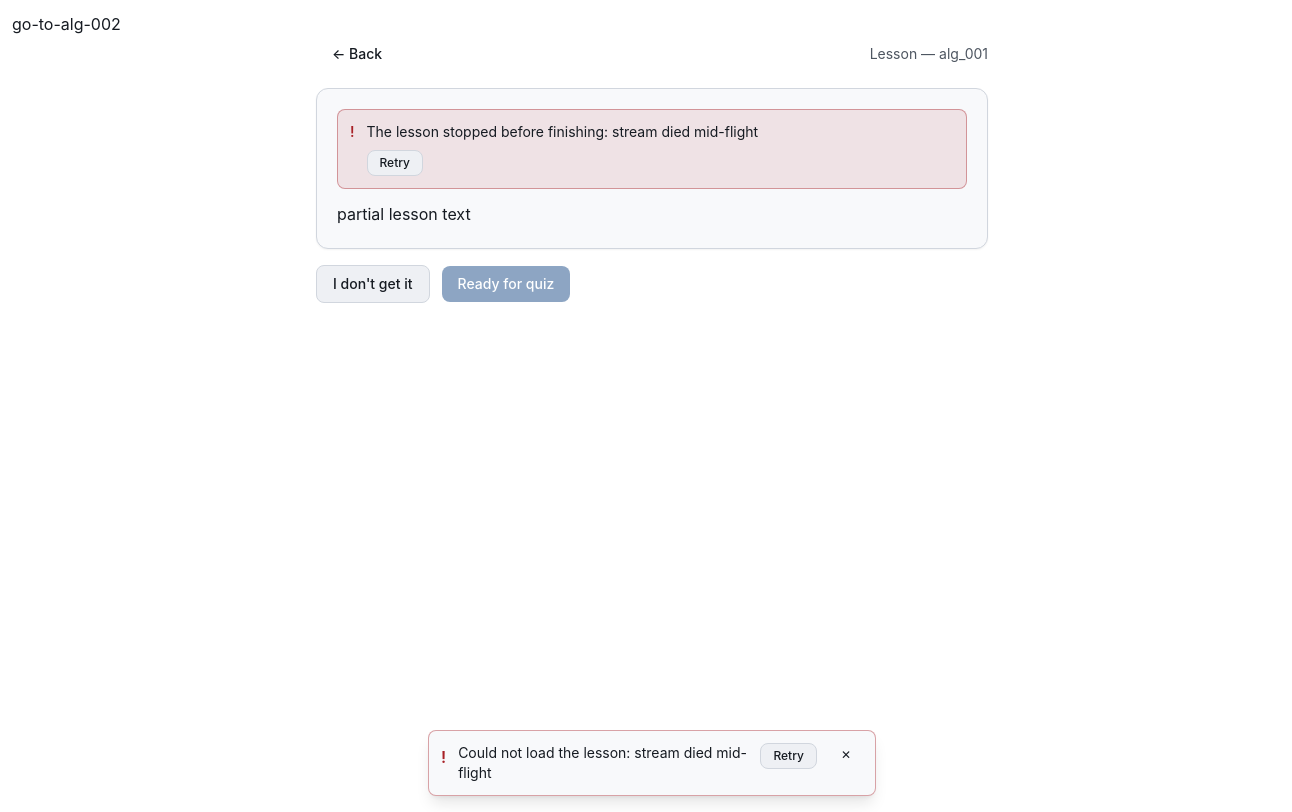
Test: LessonPage flow hardening (WP3) › mid-stream failure keeps a persistent inline error, keeps the partial text, and disables 'Ready for quiz'
Check: the text "partial lesson text" is shown, box x1=337 y1=204 x2=471 y2=224
Check: the text "The lesson stopped before finishing: stream died mid-flight" is shown, box x1=366 y1=123 x2=758 y2=140
Retry from the inline card (first in DOM order) reloads and re-enables.
Click the 1st button "Retry".
click(395, 163)  # box x1=366 y1=150 x2=423 y2=176
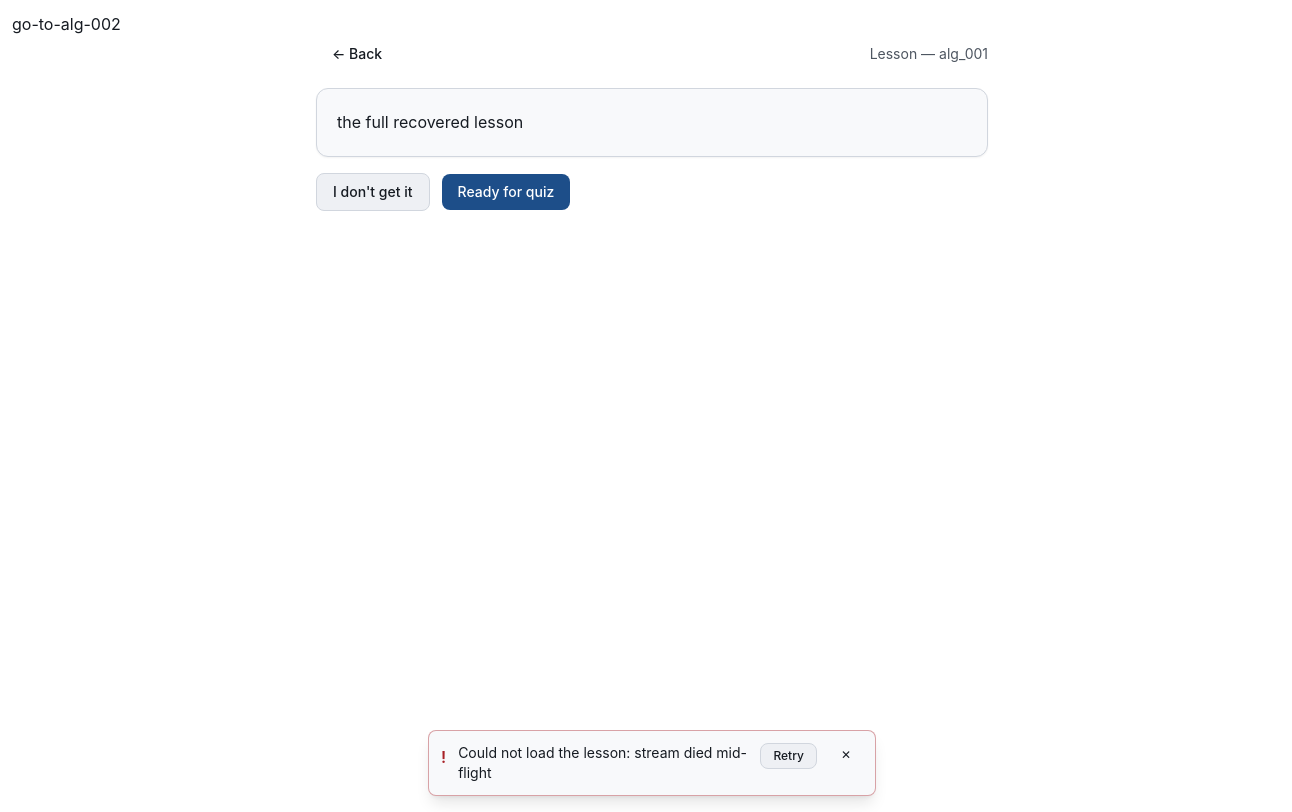
Check: the text "The lesson stopped before finishing" is gone
Check: the button "Ready for quiz" is enabled, box x1=442 y1=174 x2=570 y2=210
